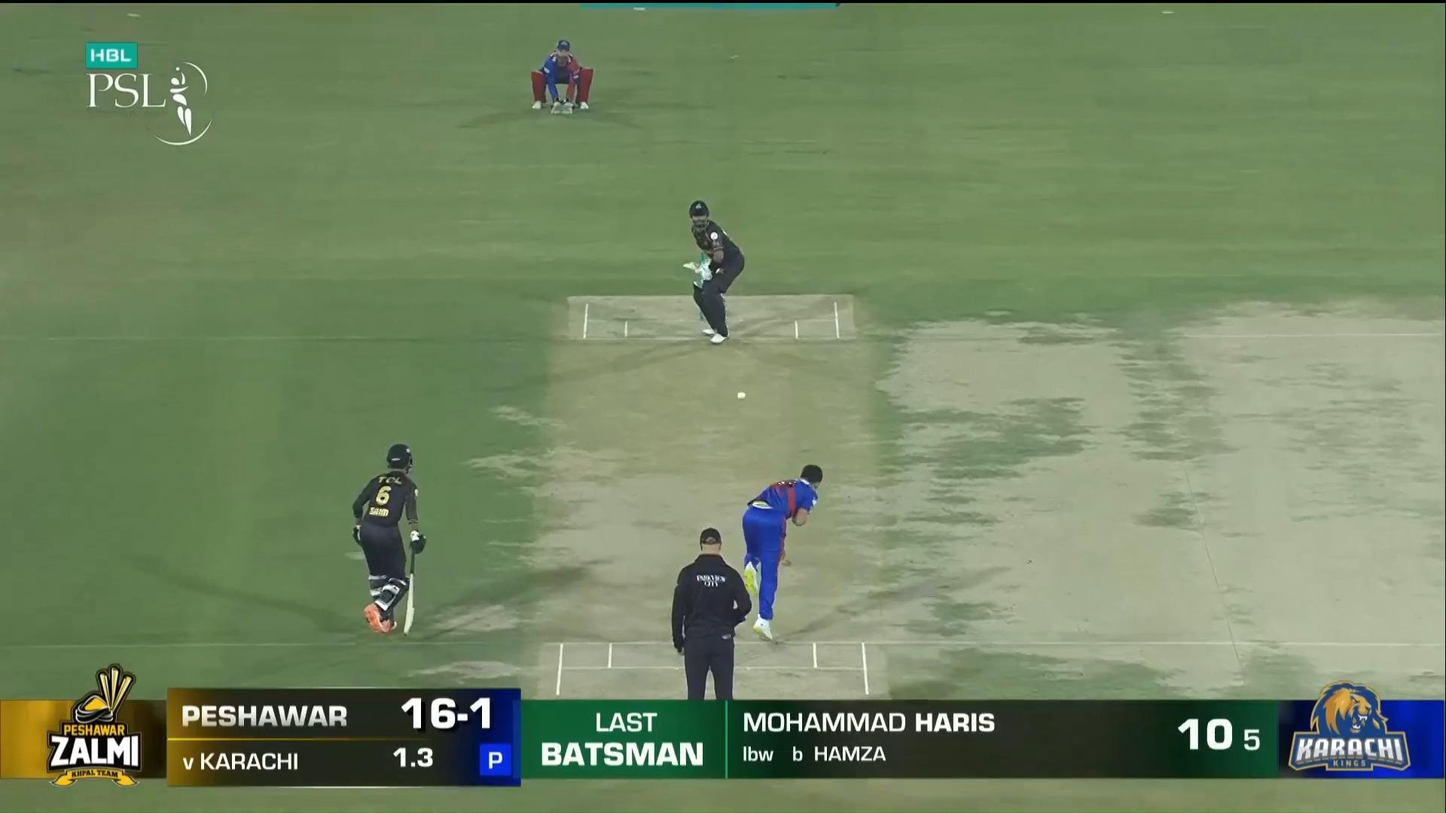batsman: (683, 200, 745, 344)
